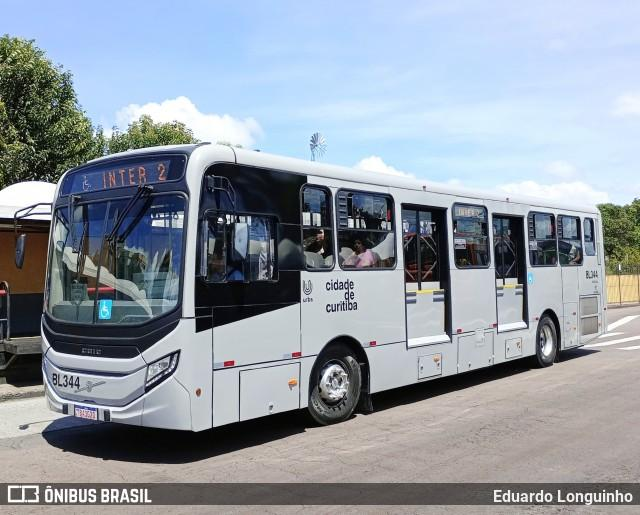INTER 2: (97, 160, 171, 194)
